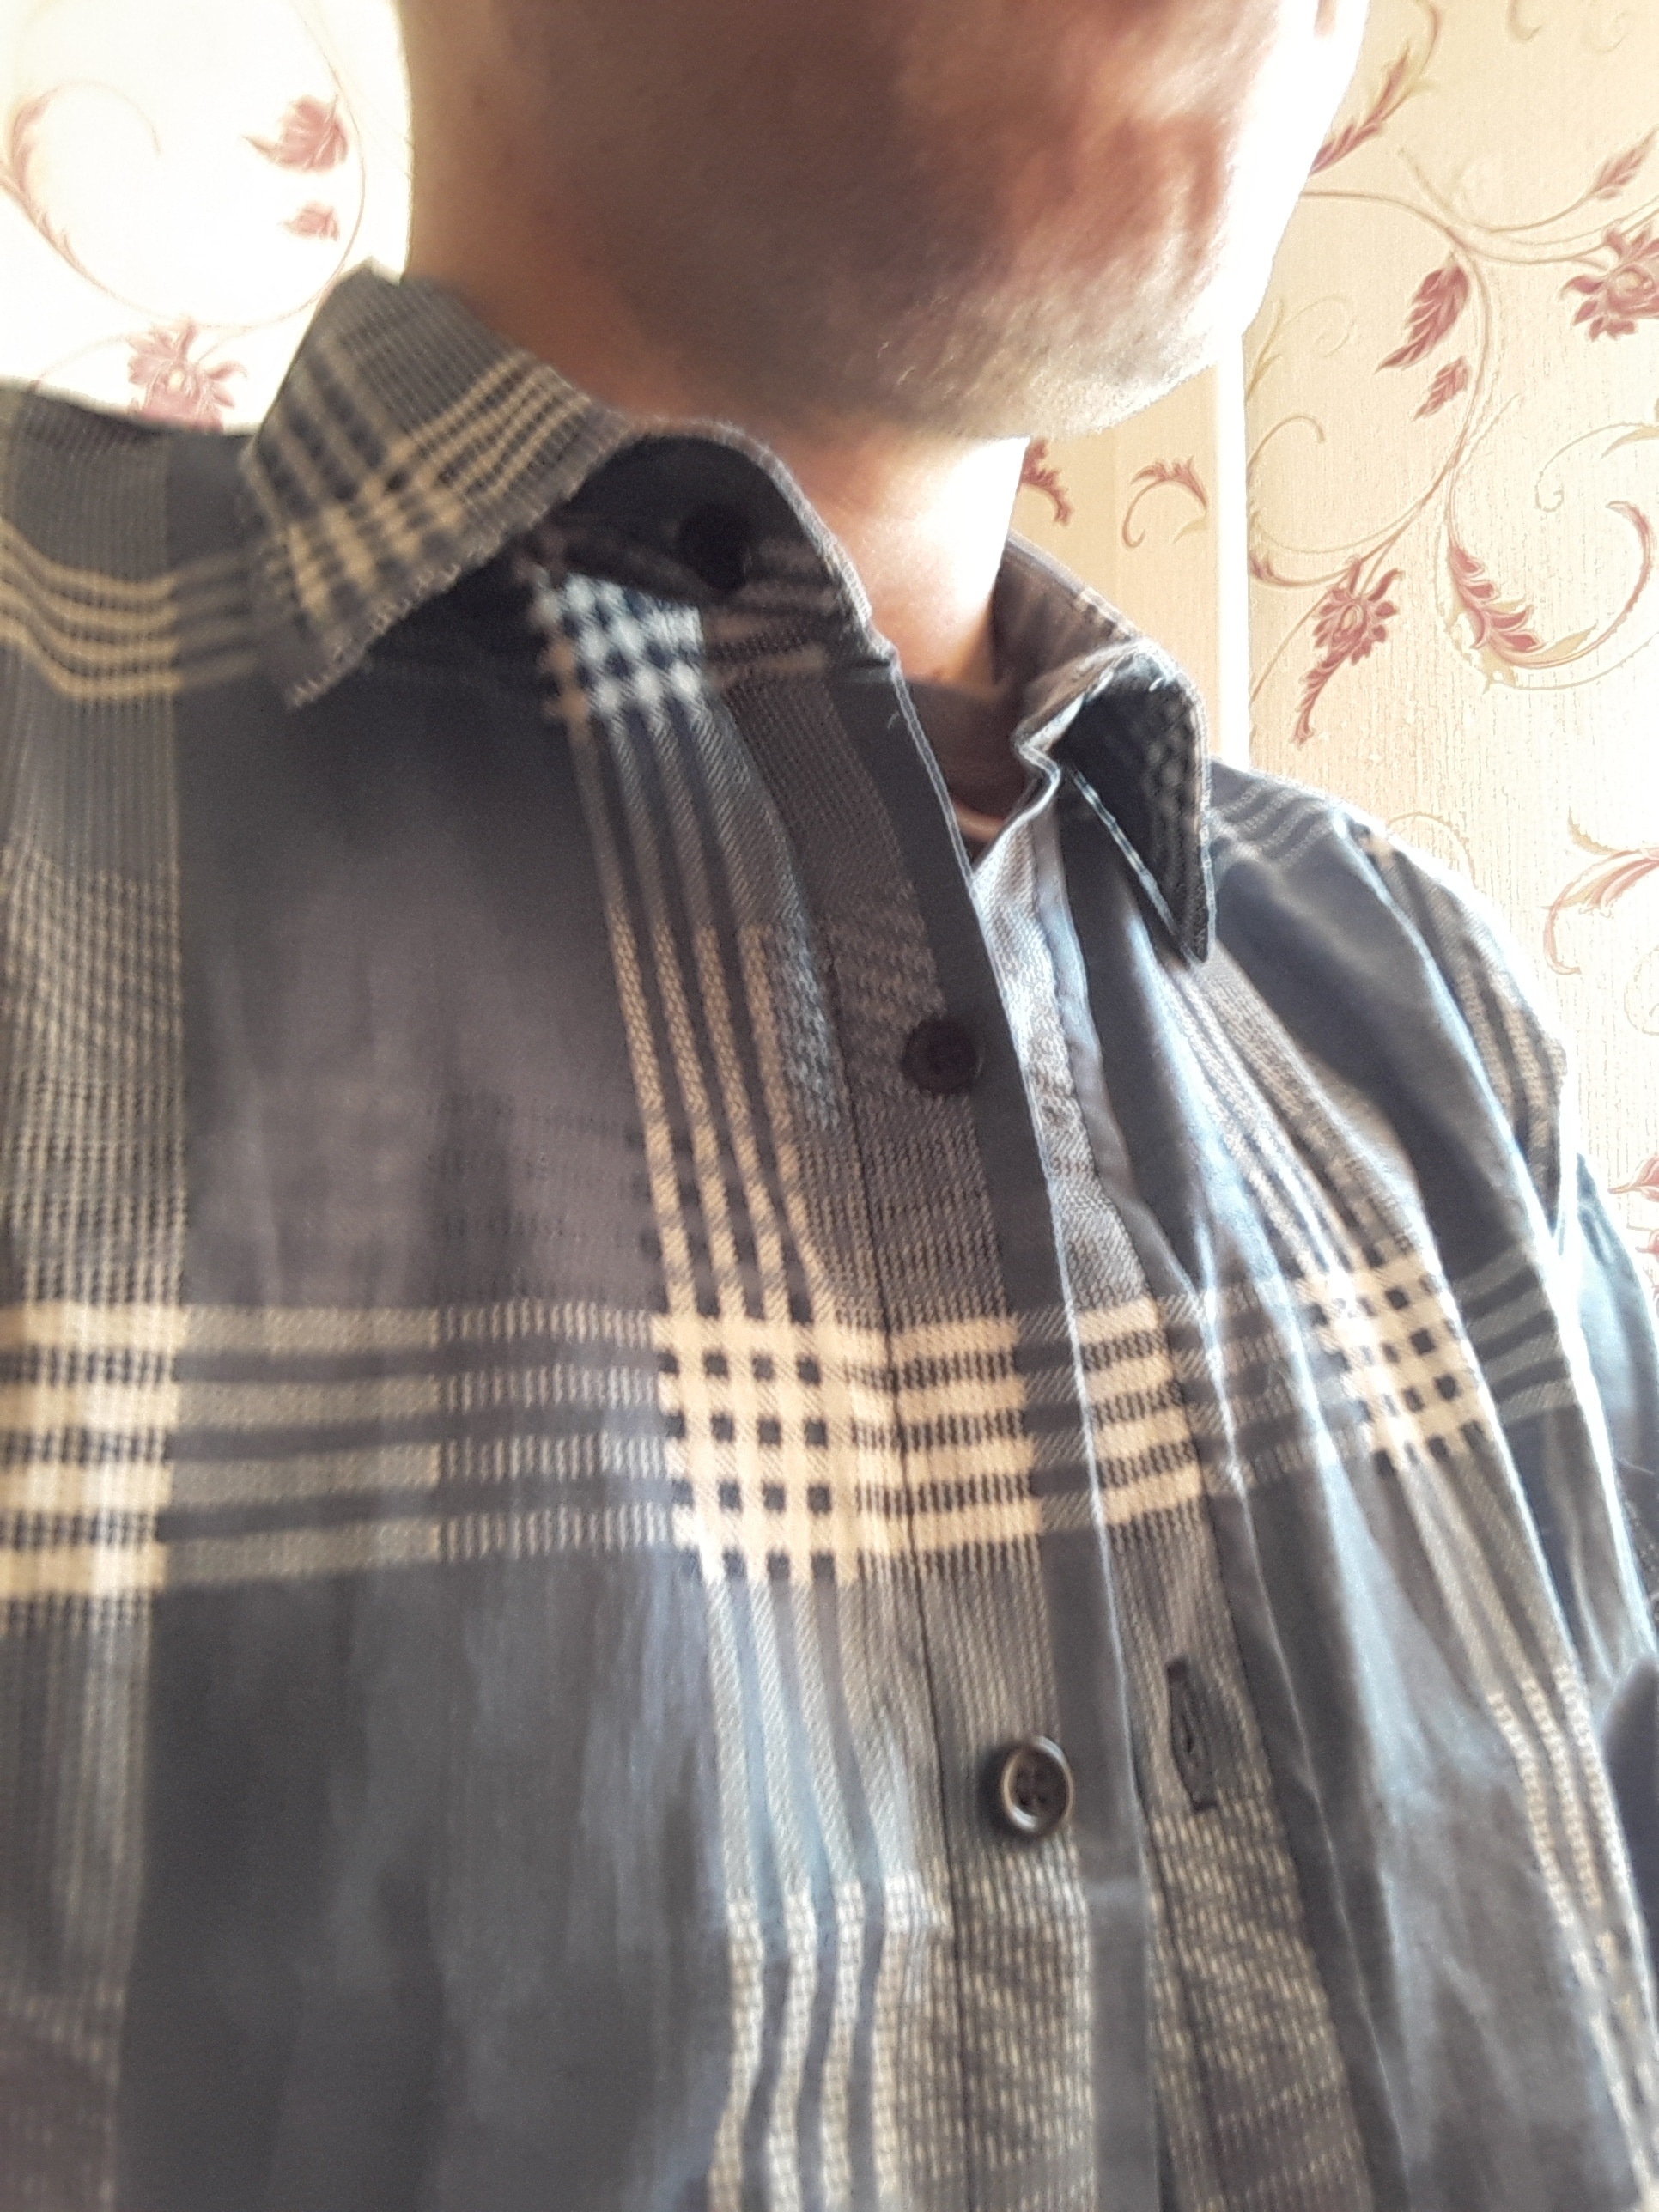shirts: (2, 263, 1659, 2188)
